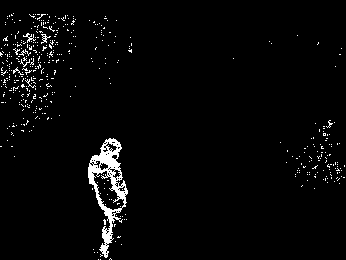person: (86, 133, 135, 260)
